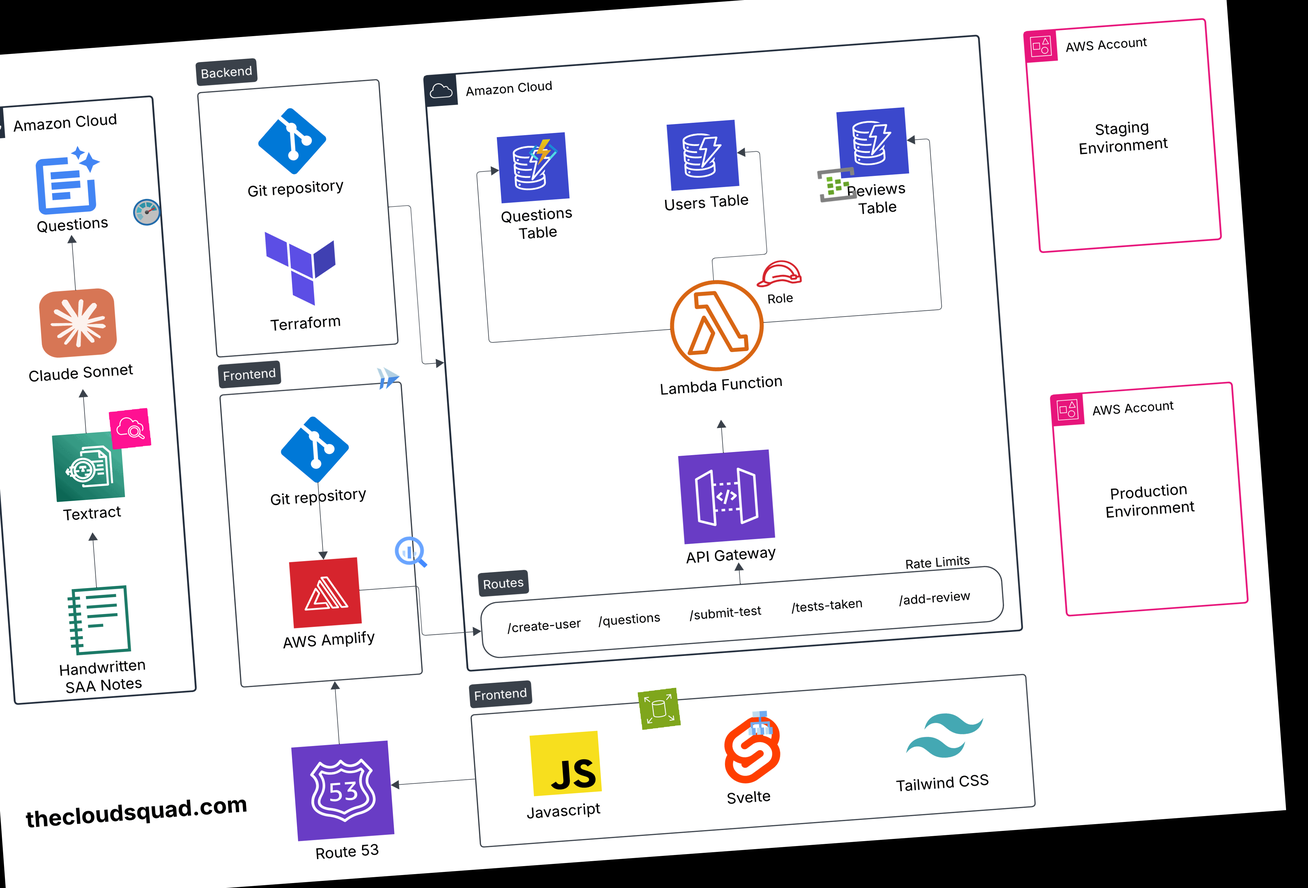aws_amazon_cloudwatch: (108, 407, 152, 450)
aws_amazon_elastic_block_store: (637, 687, 681, 730)
azure_event_hubs: (815, 163, 859, 205)
azure_function_apps: (527, 136, 559, 168)
azure_monitor: (130, 196, 164, 229)
gcp_bigquery: (389, 531, 433, 574)
gcp_cloud_load_balancing: (744, 707, 776, 739)
gcp_cloud_run: (372, 361, 405, 393)
